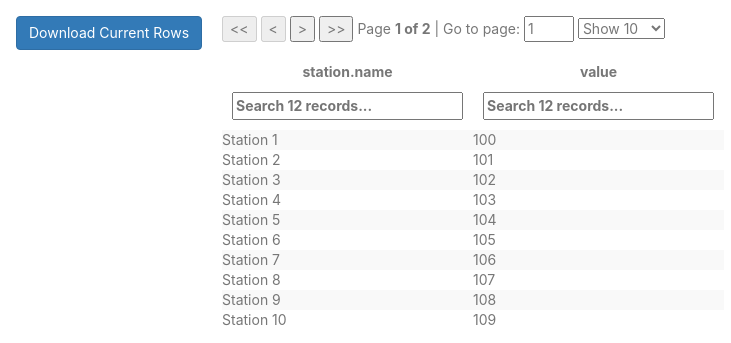
Test case: App smoke tests › renders TableFile with filtering, pagination, and CSV download button
Expected: the button "Download Current Rows" is shown, x1=16 y1=16 x2=202 y2=50
Expected: the text "Station 1" is shown, x1=222 y1=130 x2=473 y2=150
Type "Station 12" into the field with placeholder "Search 12 records..." below "station.name" at (348, 106), box x1=232 y1=92 x2=463 y2=120
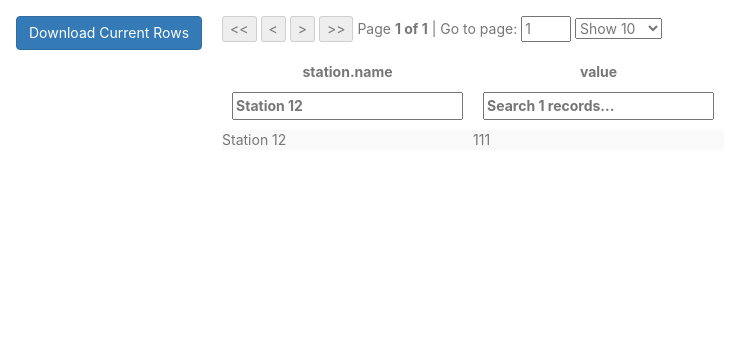
Expected: the text "Station 12" is shown, x1=222 y1=130 x2=473 y2=150
